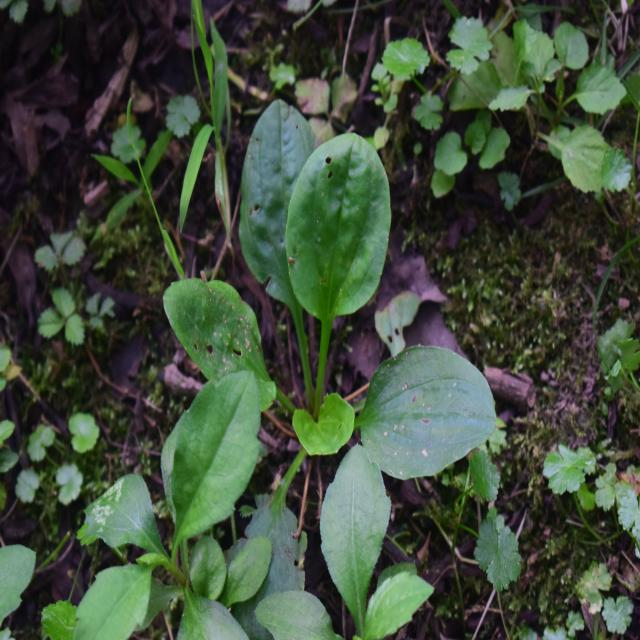plantain: (190, 133, 468, 561)
